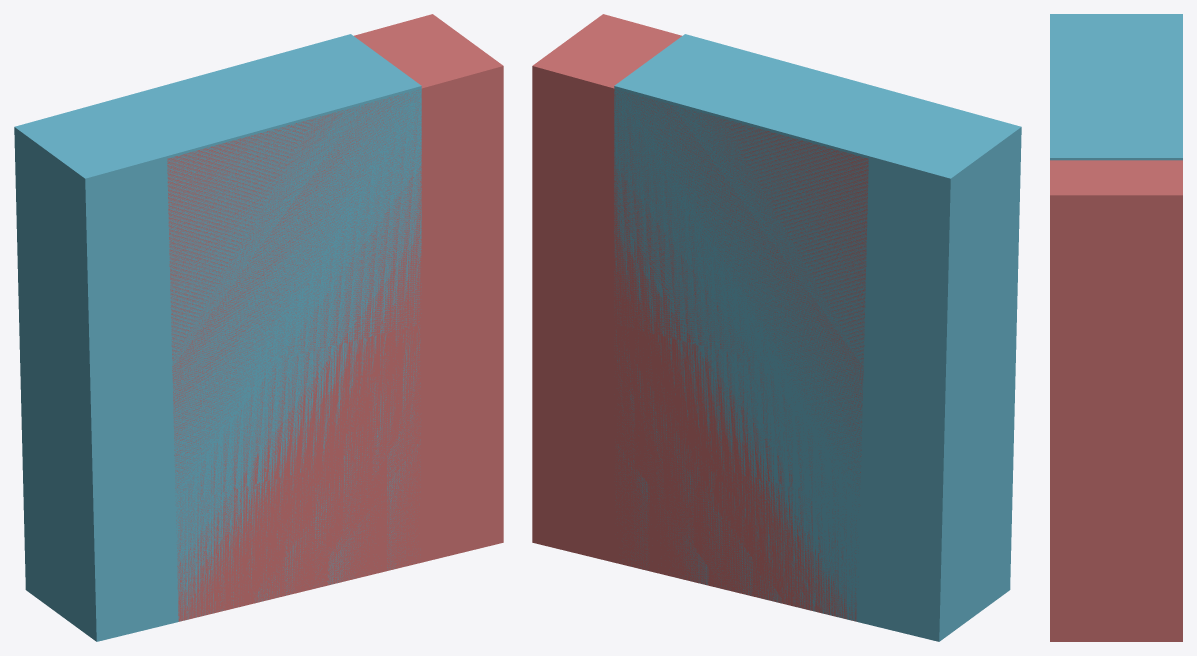
Rendered from apartment_overlap.glb.
3 views of the same model, side by side, from view 1: azimuth 30°, elevation 25°; view 2: azimuth 150°, elevation 25°; view 3: azimuth 270°, elevation 25° (orthographic). The views are drawn at different scales.
Visible parts, largest first — view 1: geometry_0, geometry_1; view 2: geometry_0, geometry_1; view 3: geometry_1, geometry_0.
Boxes of the visible parts, x1,y1,x2,y2 form: geometry_0: (14, 34, 421, 641); geometry_1: (167, 14, 503, 621); geometry_0: (614, 34, 1021, 641); geometry_1: (532, 14, 868, 621); geometry_1: (1050, 160, 1182, 641); geometry_0: (1050, 14, 1182, 160).
Size of the model in its own units: 10.22 by 11.12 by 3.
